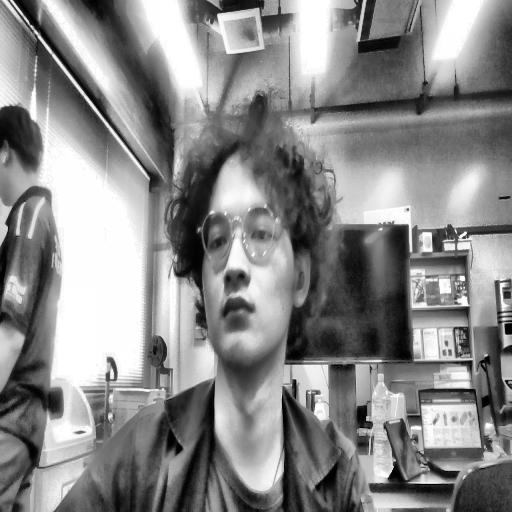Daifuku: (170, 112, 342, 377)
Not Daifuku: (2, 101, 45, 208)
